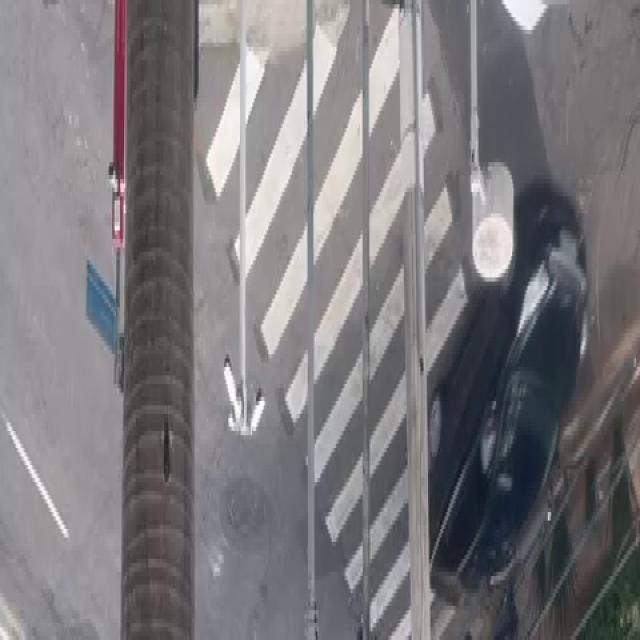car: (410, 208, 586, 608)
